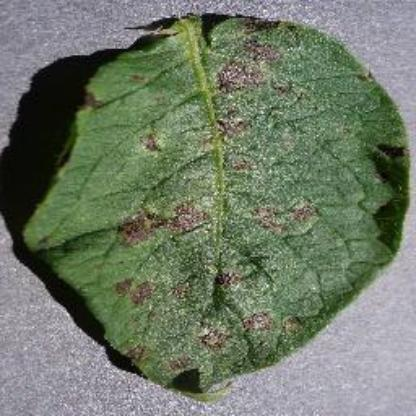Early-Blight: (21, 11, 415, 397)
